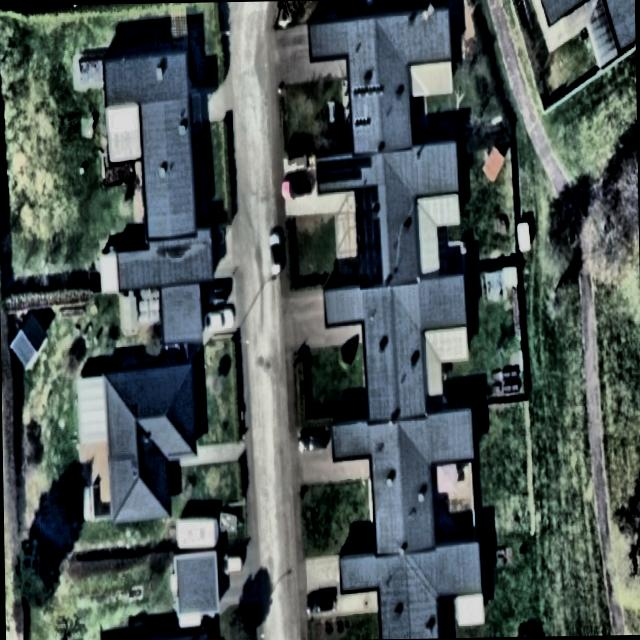roof_pv: (354, 182, 386, 282), (316, 159, 373, 184)
